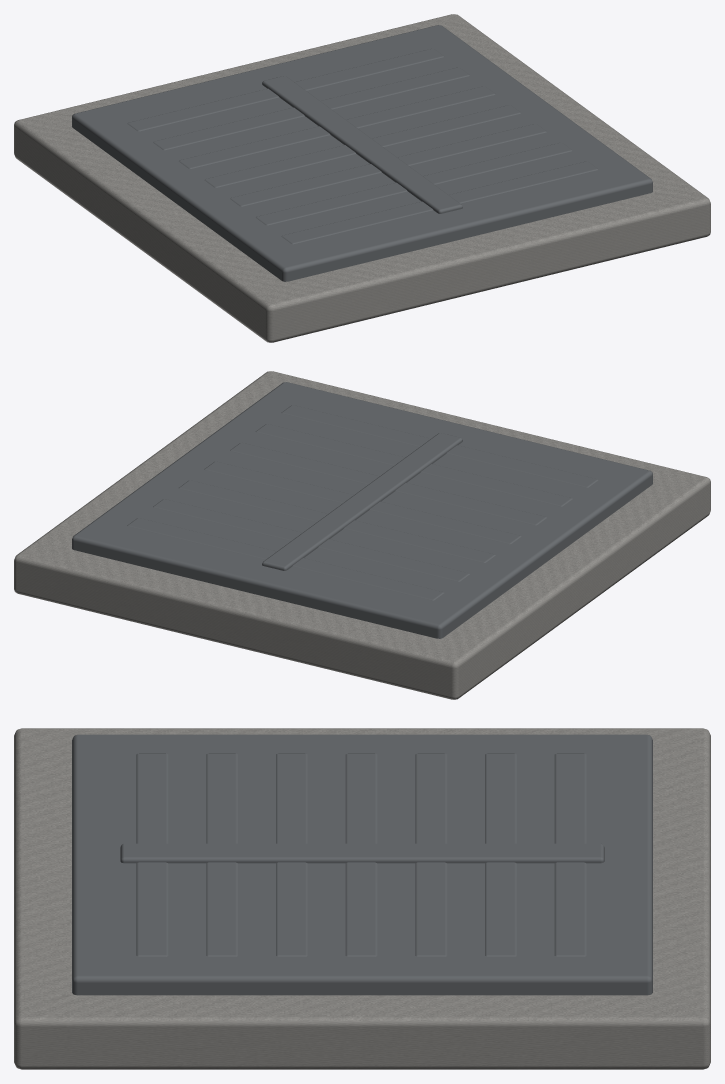
File: printing-press-and-newspaper-office-floor-drain-0b56c4a9__37776.glb
The picture shows the model from 3 angles, top to bottom: view 1: azimuth 30°, elevation 25°; view 2: azimuth 150°, elevation 25°; view 3: azimuth 270°, elevation 25°; orthographic projection. The views are drawn at different scales.
Parts seen in each view (by area): view 1: floor-drain; view 2: floor-drain; view 3: floor-drain.
Part boxes in pixels (x1=…): floor-drain: x1=14, y1=14, x2=710, y2=342; floor-drain: x1=14, y1=371, x2=710, y2=699; floor-drain: x1=14, y1=728, x2=710, y2=1069.
Size of the model in its own units: 0.72 by 0.0855 by 0.72.
3 materials, 1 textured.
